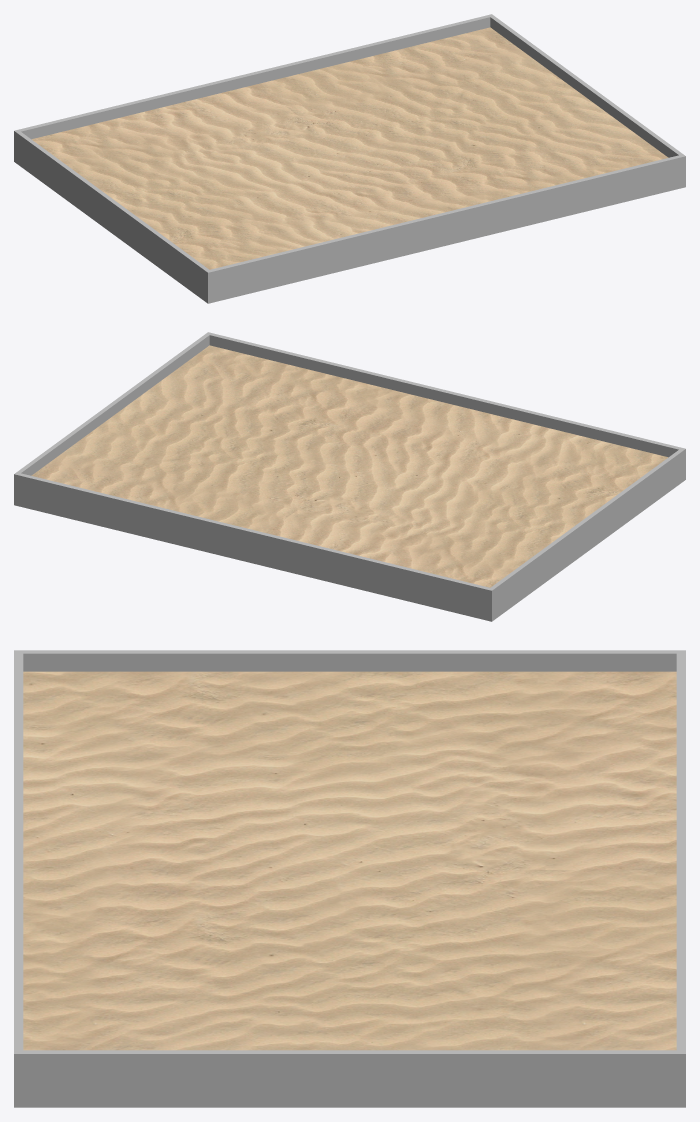
Rendered from Sand inside square box.glb.
3 renders of one model, top to bottom at view 1: azimuth 30°, elevation 25°; view 2: azimuth 150°, elevation 25°; view 3: azimuth 270°, elevation 25°, orthographic. The views are drawn at different scales.
Parts seen in each view (by area): view 1: Cube.001, Cube; view 2: Cube.001, Cube; view 3: Cube.001, Cube.
Boxes of the visible parts, <box> form: Cube.001: <box>32,27,668,269</box>; Cube: <box>14,14,685,303</box>; Cube.001: <box>31,345,667,587</box>; Cube: <box>14,332,685,621</box>; Cube.001: <box>23,671,676,1050</box>; Cube: <box>14,650,685,1107</box>.
Size of the model in its own units: 2.84 by 0.1763 by 2.
2 materials, 1 textured.
